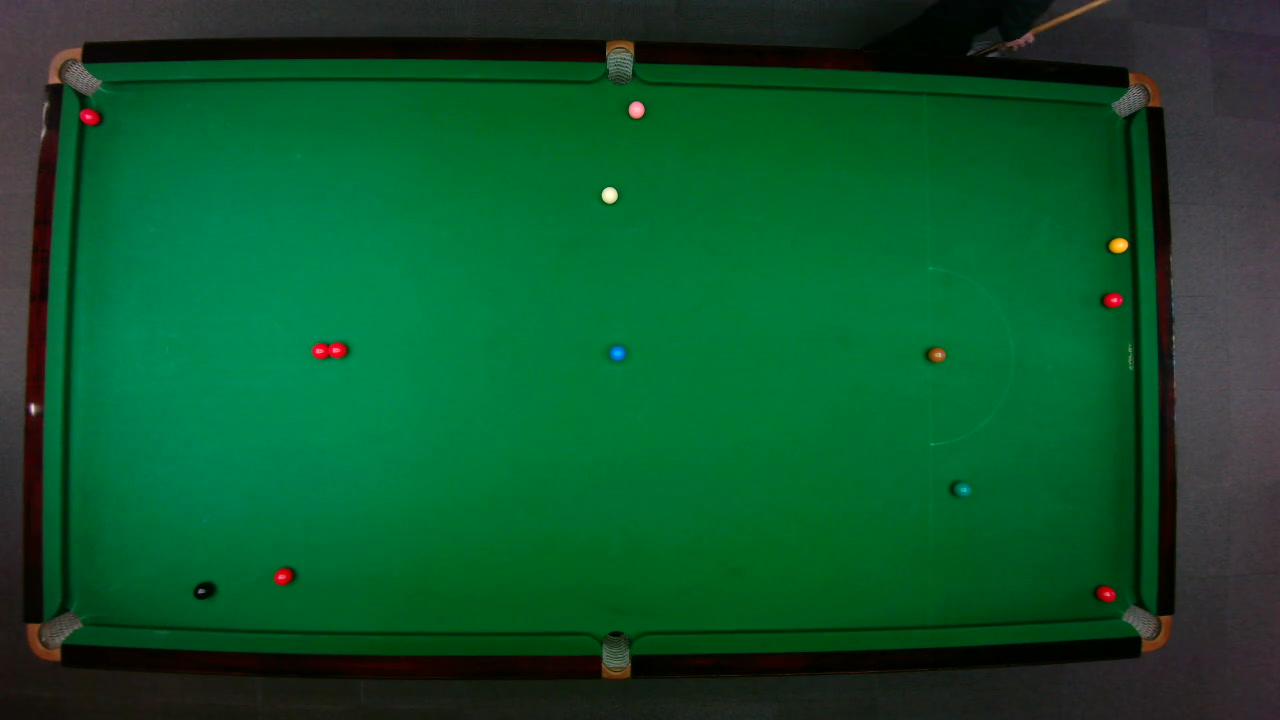bag: (25, 609, 84, 662), (45, 46, 102, 96), (1119, 603, 1172, 652), (1108, 71, 1161, 118), (601, 629, 630, 680), (605, 38, 633, 85)
black: (192, 581, 213, 600)
blue: (608, 344, 626, 361)
brown: (926, 346, 946, 362)
green: (951, 480, 971, 497)
pink: (626, 99, 645, 119)
red: (77, 106, 101, 126), (272, 565, 294, 585), (325, 340, 347, 359), (1094, 584, 1116, 602), (1101, 291, 1123, 308), (310, 341, 330, 359)
white: (599, 185, 619, 204)
yellow: (1107, 236, 1129, 253)
zone: (927, 265, 1014, 445)
